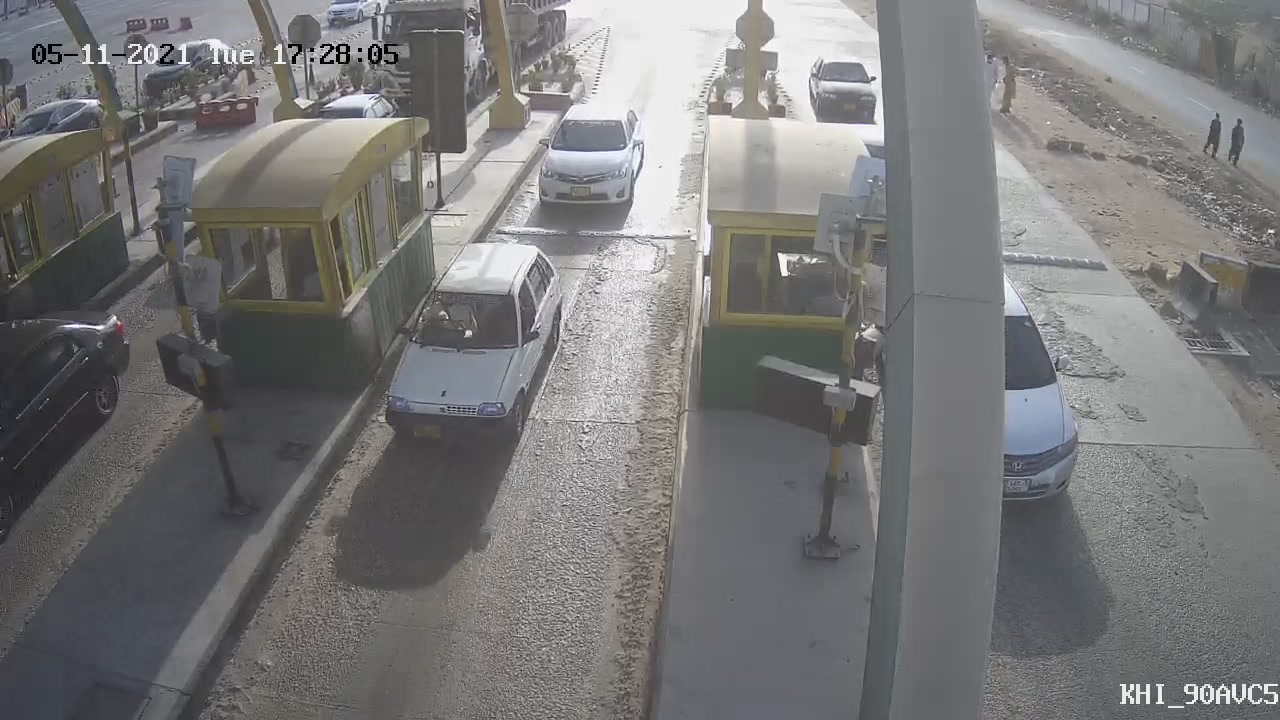F1: (365, 226, 577, 468), (522, 90, 661, 234)
